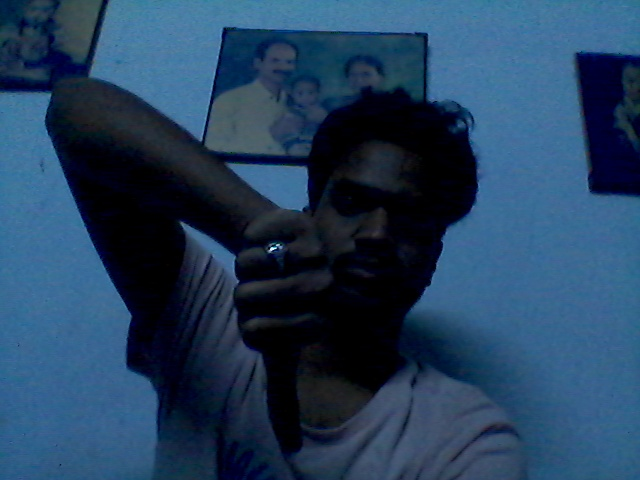Please: (207, 210, 346, 457)
